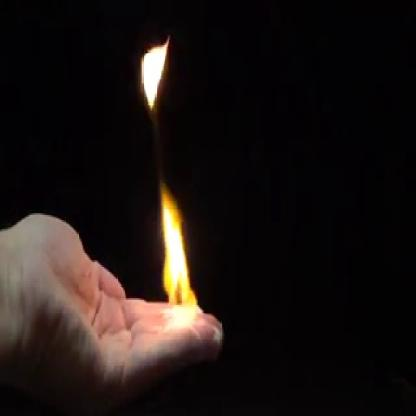fire: (154, 180, 198, 333)
